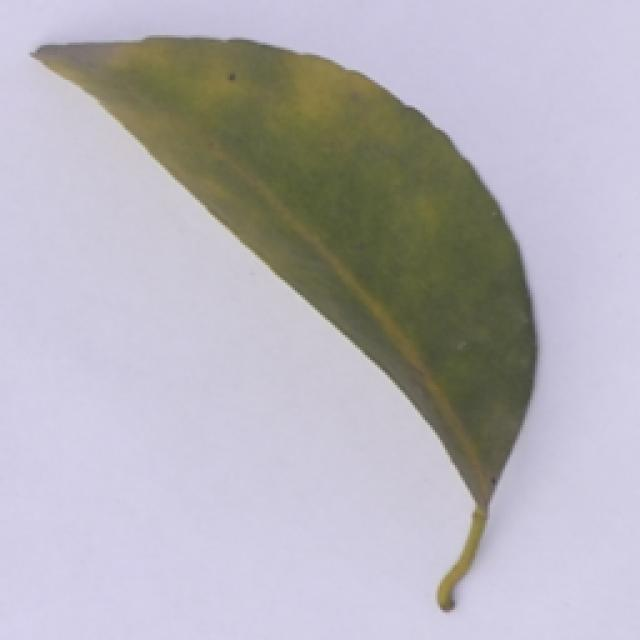greening: (22, 27, 542, 621)
